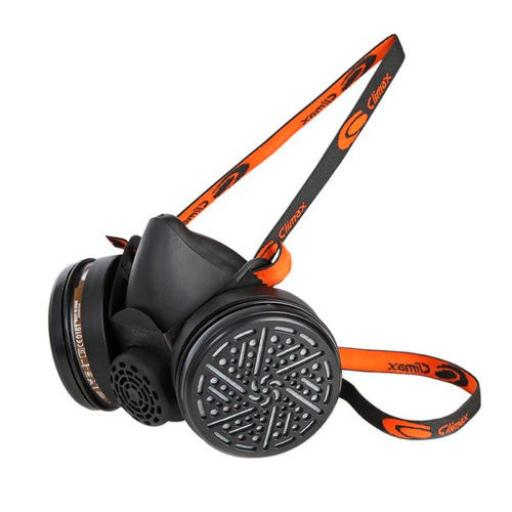mask: (48, 193, 348, 467)
